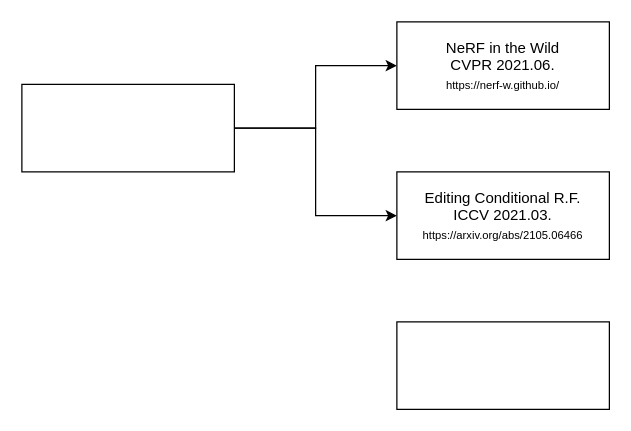
This 631x431 diagram has some shape labels left out. Here are the shapes that lost their labels. From the top down, the centre of each, then its label:
At pixel 127 127: "NeRF ECCV 2020.08. https://arxiv.org/abs/2003.08934".
At pixel 502 365: "Code NeRF ICCV 2021.03. https://arxiv.org/abs/2109.01750".
